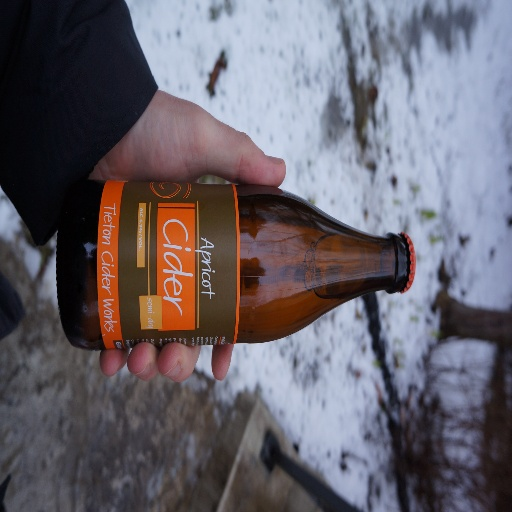hand: (89, 88, 285, 384)
